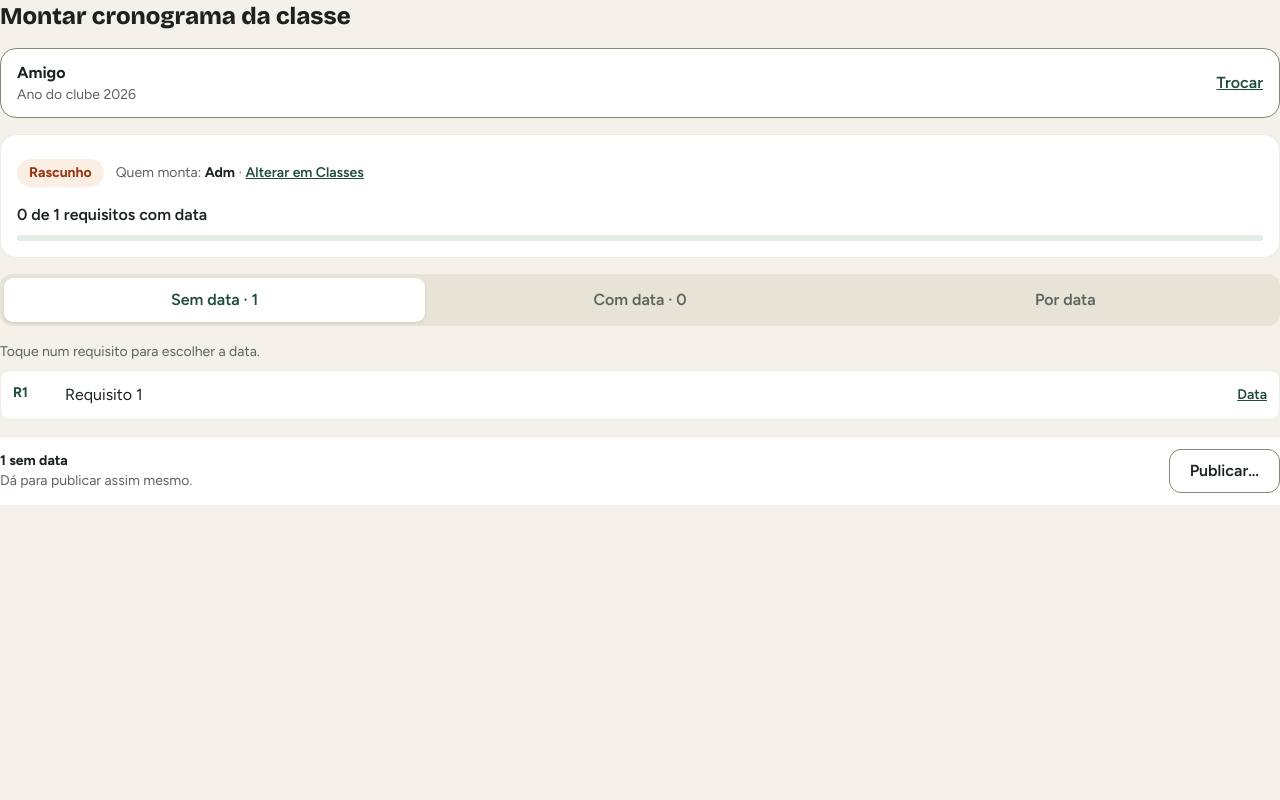
Scenario: A7 celular · folha sem data para escolher › agrupada sem dia de classe: diz o que fazer e "Novo dia de classe" abre a folha do dia novo
The image size is (1280, 800).
Check: the text "0 de 1 requisitos com data" is shown, box x1=17 y1=205 x2=207 y2=224
What coordinates should you click on to do the following:
click the button "R1 Requisito 1 Data"
I would click on:
 (104, 394)
Its box is x1=0 y1=370 x2=1279 y2=420.
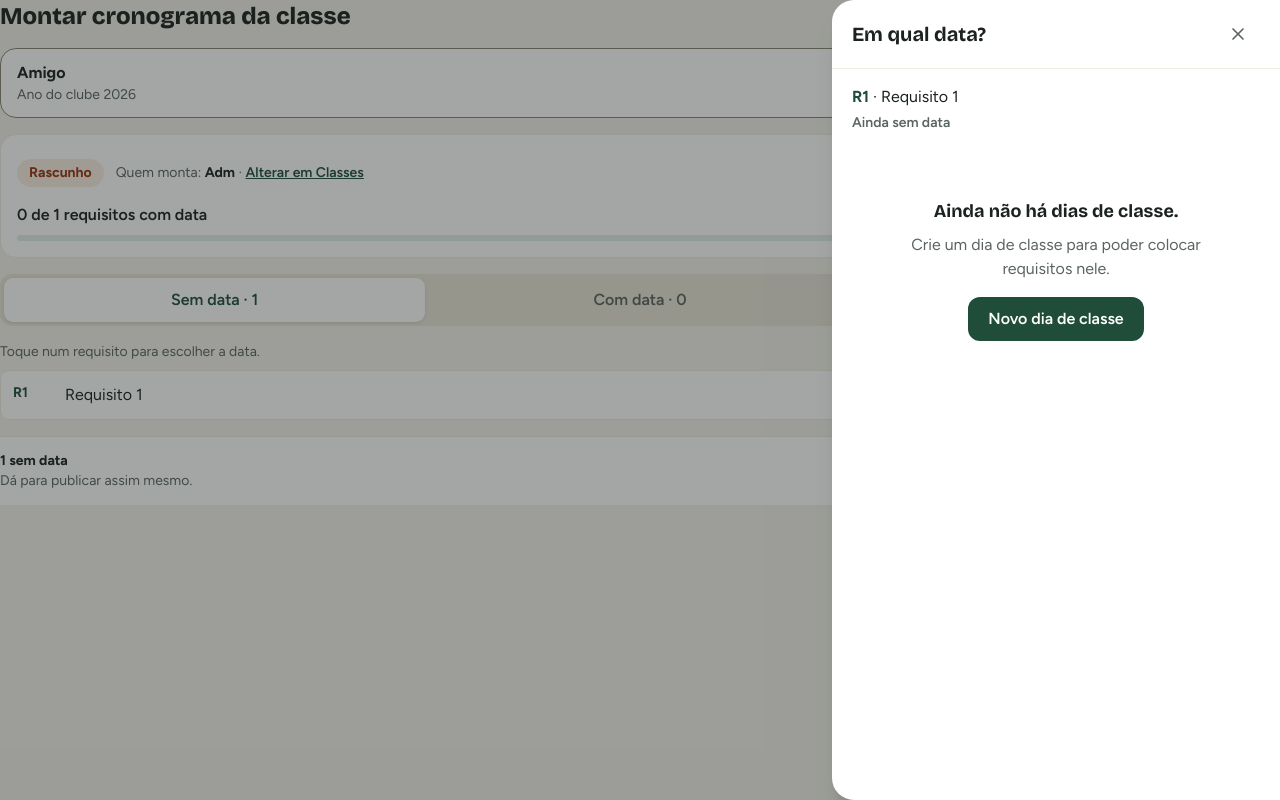
Check: the heading "Ainda não há dias de classe." is shown, box x1=934 y1=197 x2=1178 y2=225
Check: the text "Crie um dia de classe para poder colocar requisitos nele." is shown, box x1=911 y1=235 x2=1201 y2=278
What coordinates should you click on to do the following:
click the button "Novo dia de classe"
I would click on:
 (1056, 319)
Its box is x1=968 y1=297 x2=1144 y2=341.
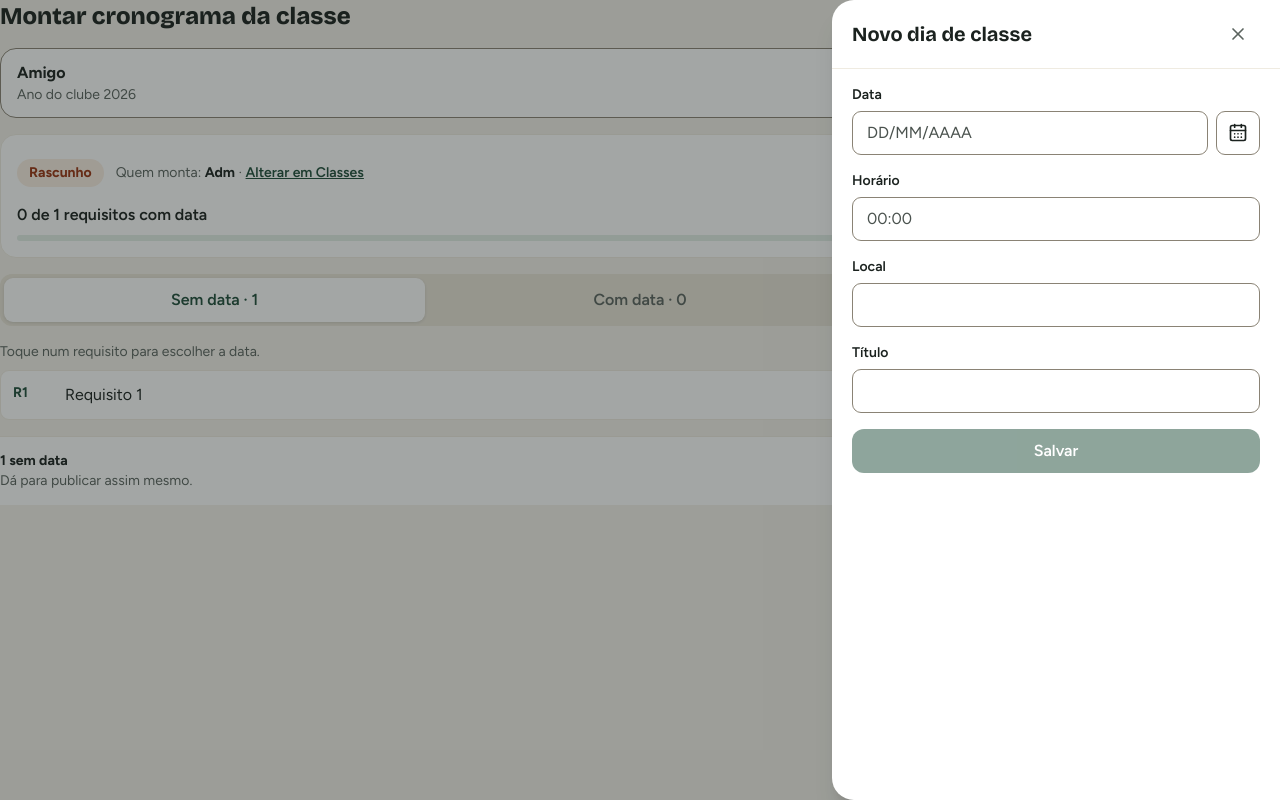
Check: the dialog "Novo dia de classe" is shown, box x1=832 y1=0 x2=1279 y2=799
Check: the heading "Em qual data?" is gone
